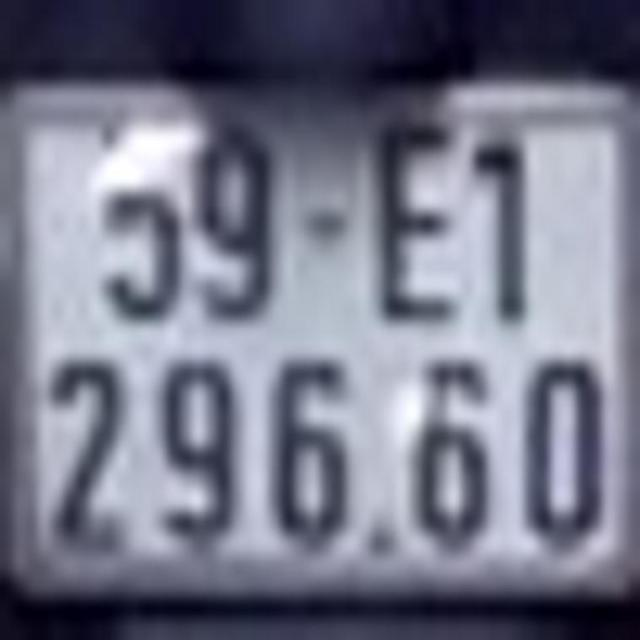0: (517, 346, 603, 553)
1: (479, 139, 531, 327)
2: (49, 358, 122, 548)
5: (100, 104, 181, 323)
6: (270, 345, 346, 538), (419, 353, 487, 546)
9: (194, 110, 274, 326), (170, 346, 232, 546)
E: (375, 119, 457, 323)
